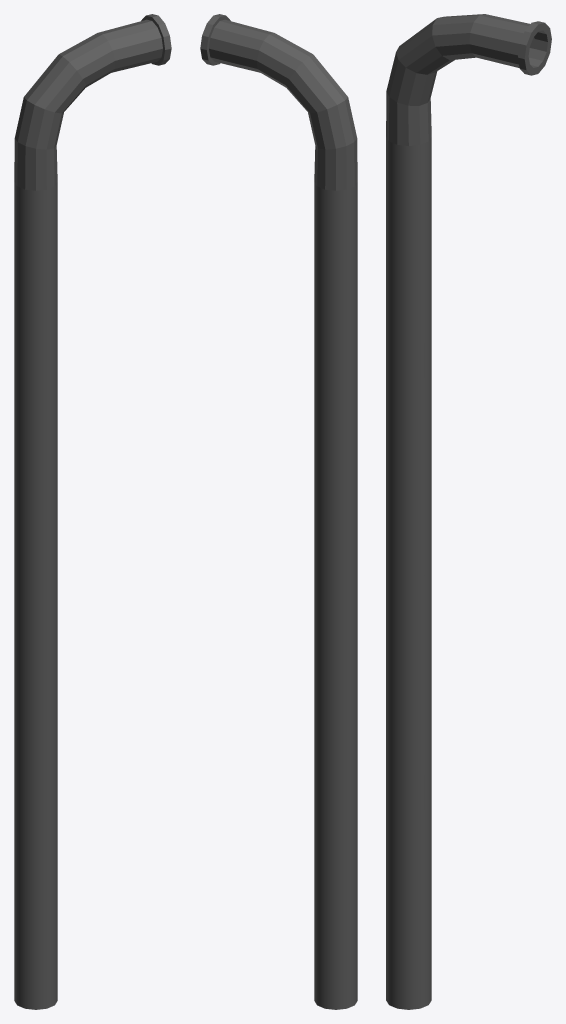
File: SM_pipe_02.fbx
The picture shows the model from 3 angles, left to right: view 1: azimuth 30°, elevation 25°; view 2: azimuth 150°, elevation 25°; view 3: azimuth 330°, elevation 25°; orthographic projection. The views are drawn at different scales.
Visible parts, largest first — view 1: pipe_02; view 2: pipe_02; view 3: pipe_02.
Boxes of the visible parts, x1,y1,x2,y2 form: pipe_02: [14, 14, 171, 1009]; pipe_02: [200, 14, 357, 1009]; pipe_02: [386, 14, 551, 1009].
Bounding box in the file's own units: 55.27 × 356 × 17.52.
